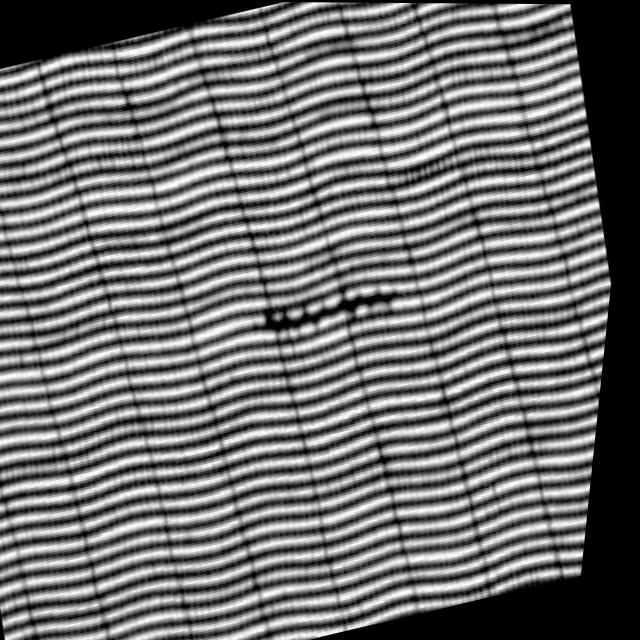Stitch: (249, 258, 431, 371)
